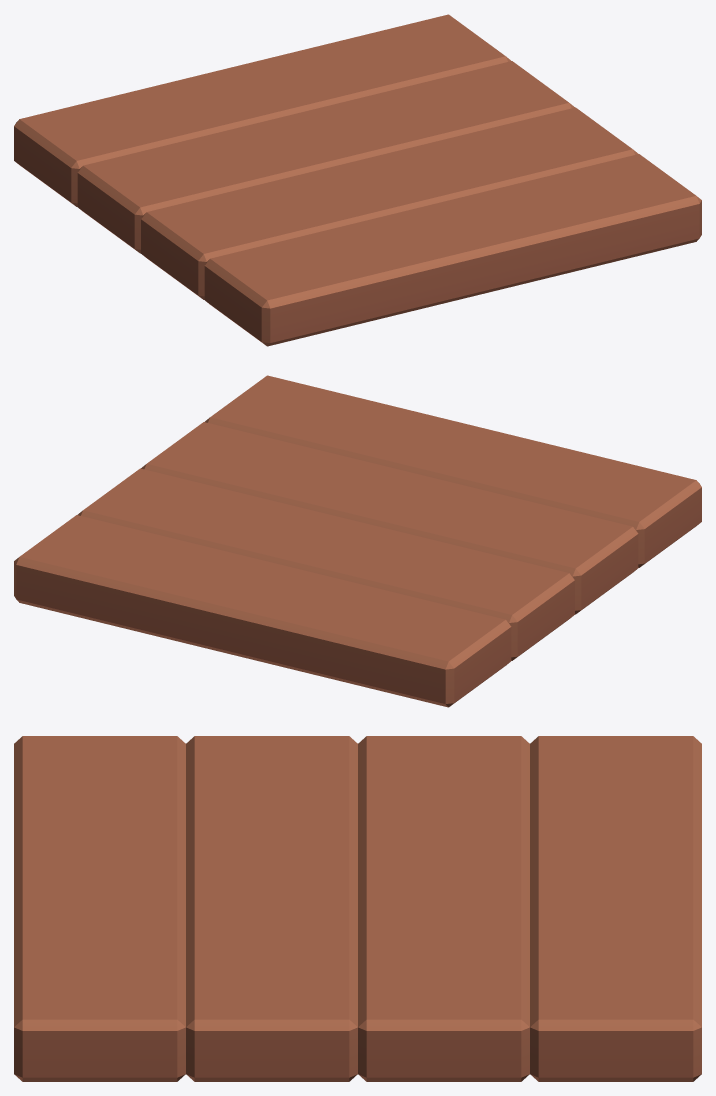
File: Planks.glb
3 views of the same model, one above another, from view 1: azimuth 30°, elevation 25°; view 2: azimuth 150°, elevation 25°; view 3: azimuth 270°, elevation 25° (orthographic). The views are drawn at different scales.
Parts seen in each view (by area): view 1: crate_lid; view 2: crate_lid; view 3: crate_lid.
Part boxes in pixels (box(x1,y1,x2,y2)): crate_lid: box(14, 14, 701, 346); crate_lid: box(14, 375, 701, 707); crate_lid: box(14, 736, 701, 1081).
Size of the model in its own units: 2 by 0.2 by 2.
Materials: 1 (1 with a texture image).
